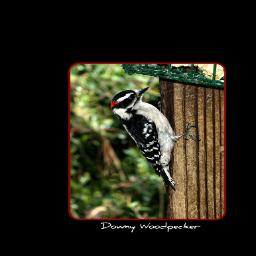Woodpecker: (110, 86, 203, 190)
